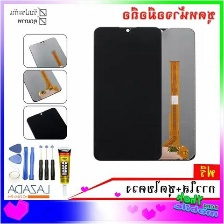phone: (90, 25, 165, 162), (130, 25, 196, 162)
